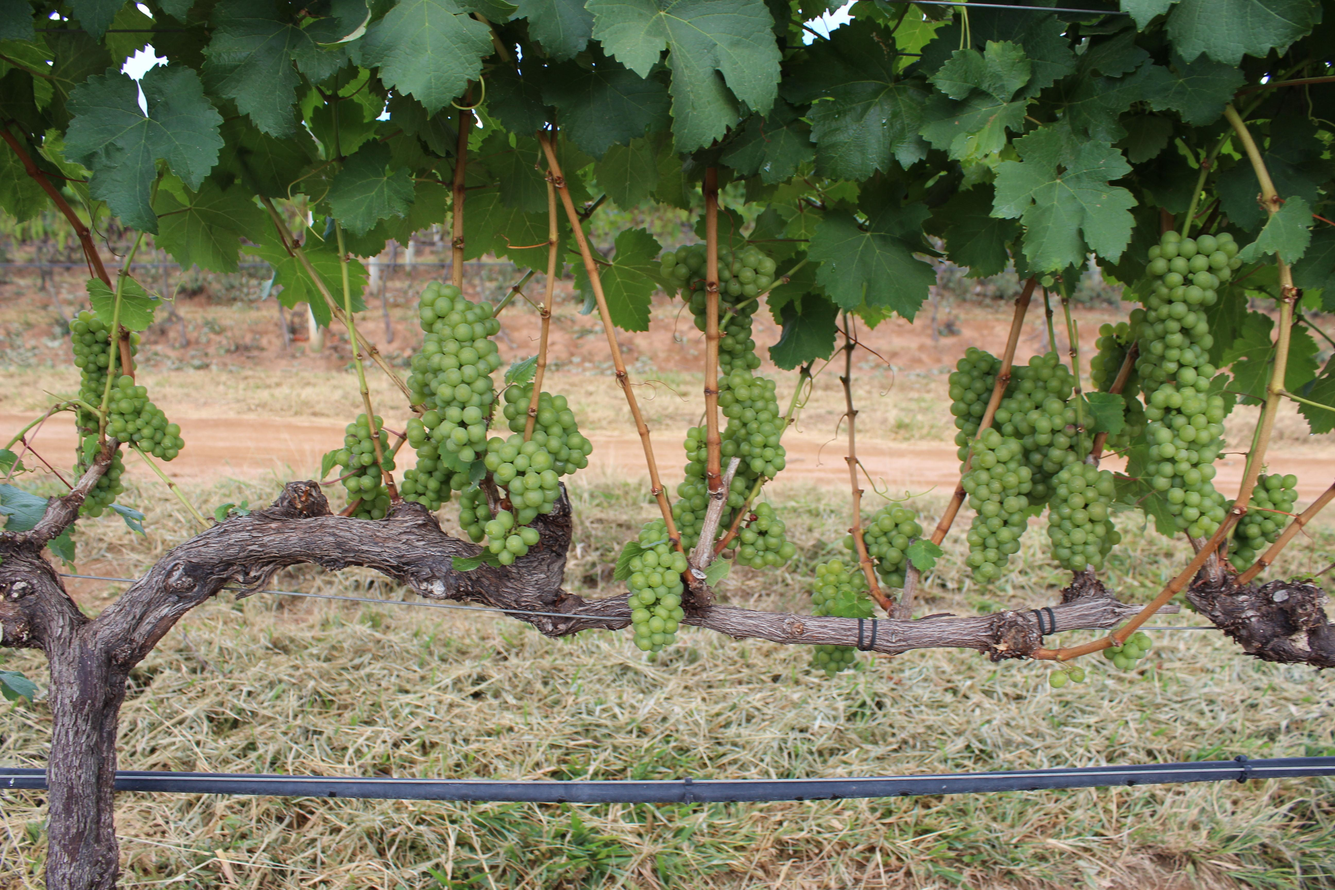leaf: (586, 0, 780, 150), (65, 65, 223, 233), (784, 23, 927, 179), (992, 127, 1136, 271), (203, 0, 321, 137), (359, 0, 492, 113), (809, 204, 935, 320), (542, 58, 670, 157), (154, 178, 268, 272), (1167, 0, 1322, 65), (246, 227, 332, 327), (327, 141, 414, 235), (721, 99, 815, 184), (933, 185, 1019, 277), (1143, 58, 1246, 125), (598, 228, 661, 331), (769, 293, 839, 370), (1221, 312, 1277, 404), (1238, 196, 1312, 263), (514, 0, 593, 61), (595, 137, 658, 209), (1293, 226, 1335, 311), (303, 230, 343, 306), (1298, 363, 1335, 434), (1283, 324, 1319, 391), (118, 275, 161, 331), (0, 483, 48, 532), (69, 0, 125, 40), (1085, 391, 1126, 435), (86, 279, 116, 328), (0, 670, 37, 703), (563, 167, 573, 178), (21, 2, 27, 7), (14, 2, 19, 5), (725, 161, 726, 162)
